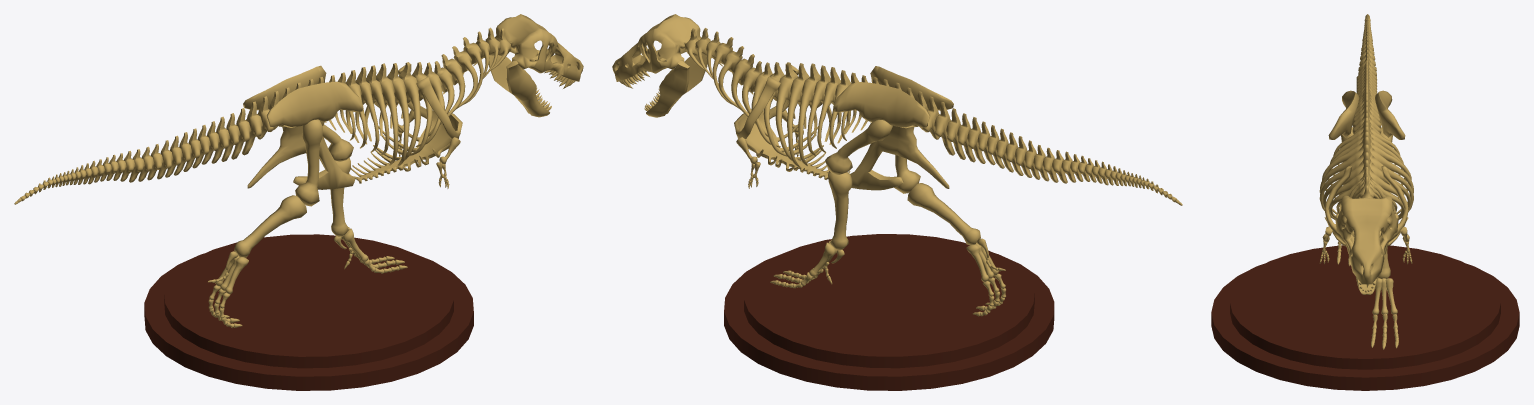
3 views of the same model, side by side, from view 1: azimuth 30°, elevation 25°; view 2: azimuth 150°, elevation 25°; view 3: azimuth 270°, elevation 25° (orthographic). The views are drawn at different scales.
Parts seen in each view (by area): view 1: vertebra.017, Cylinder.002, Cylinder.001, jaw; view 2: vertebra.017, Cylinder.002, Cylinder.001, jaw; view 3: Cylinder.002, vertebra.017, Cylinder.001.
Part boxes in pixels (x1=…): vertebra.017: x1=14, y1=14, x2=583, y2=327; Cylinder.002: x1=164, y1=234, x2=453, y2=368; Cylinder.001: x1=144, y1=253, x2=473, y2=390; jaw: x1=488, y1=55, x2=549, y2=117; vertebra.017: x1=612, y1=14, x2=1182, y2=316; Cylinder.002: x1=744, y1=234, x2=1034, y2=368; Cylinder.001: x1=724, y1=253, x2=1054, y2=390; jaw: x1=646, y1=55, x2=707, y2=117; Cylinder.002: x1=1230, y1=245, x2=1500, y2=369; vertebra.017: x1=1319, y1=14, x2=1413, y2=349; Cylinder.001: x1=1211, y1=263, x2=1519, y2=390.
Size of the model in its own units: 3748 by 1567 by 1886.
